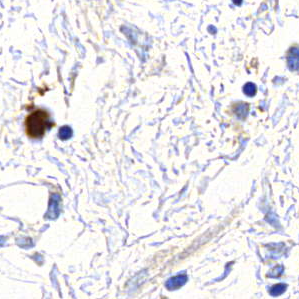Lymphocyte: (24, 109, 51, 139)
